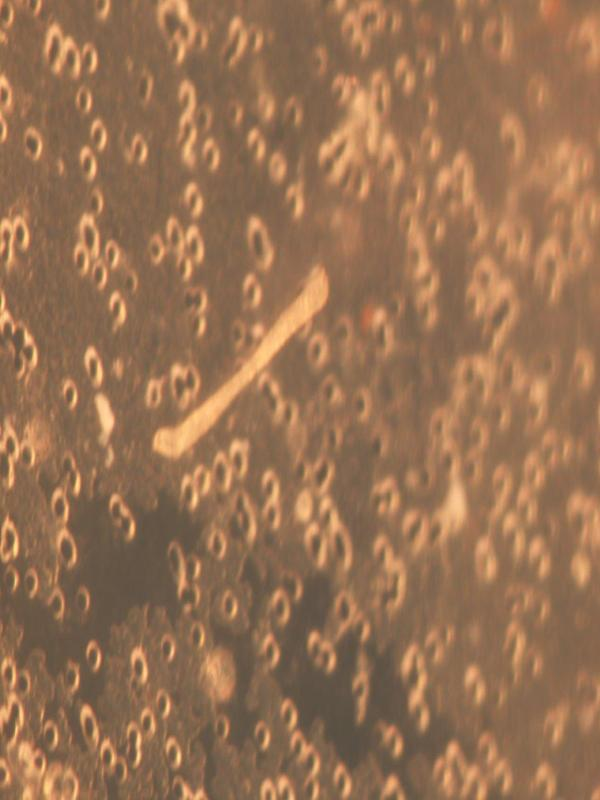microplastic: (1, 1, 598, 797), (150, 259, 330, 462)
